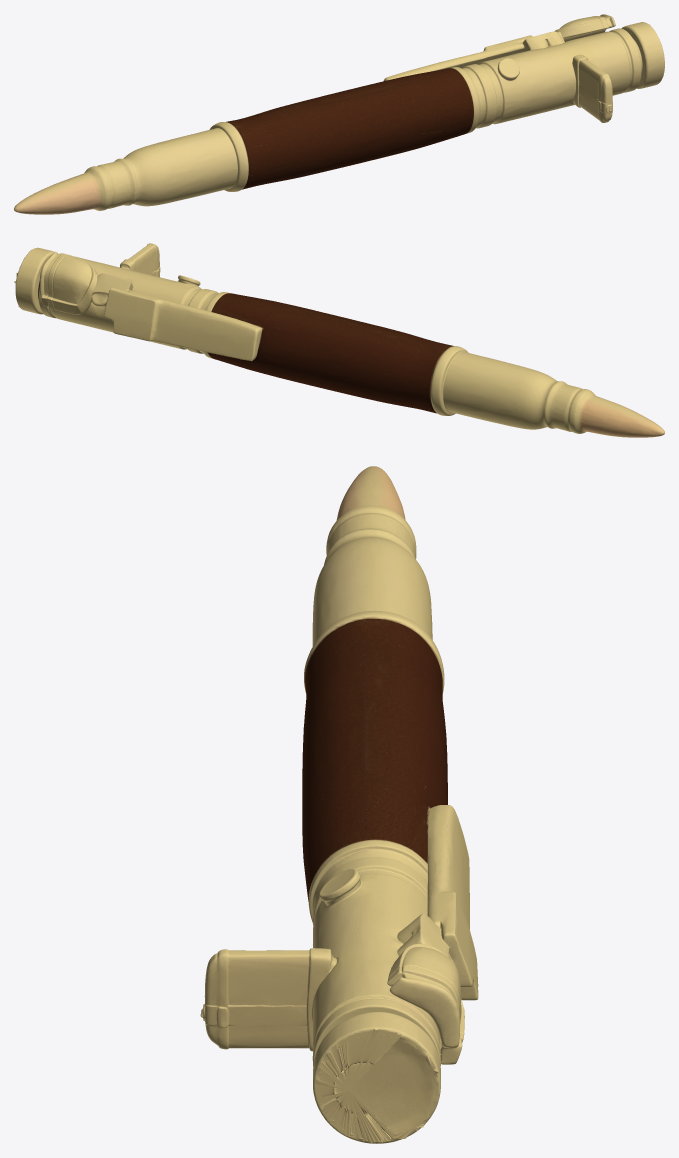
Rendered from pen-rifle.glb.
The picture shows the model from 3 angles, top to bottom: view 1: azimuth 30°, elevation 25°; view 2: azimuth 150°, elevation 25°; view 3: azimuth 270°, elevation 25°; orthographic projection. The views are drawn at different scales.
Size of the model in its own units: 1.91 by 0.2132 by 0.3626.
Materials: 1 (1 with a texture image).
